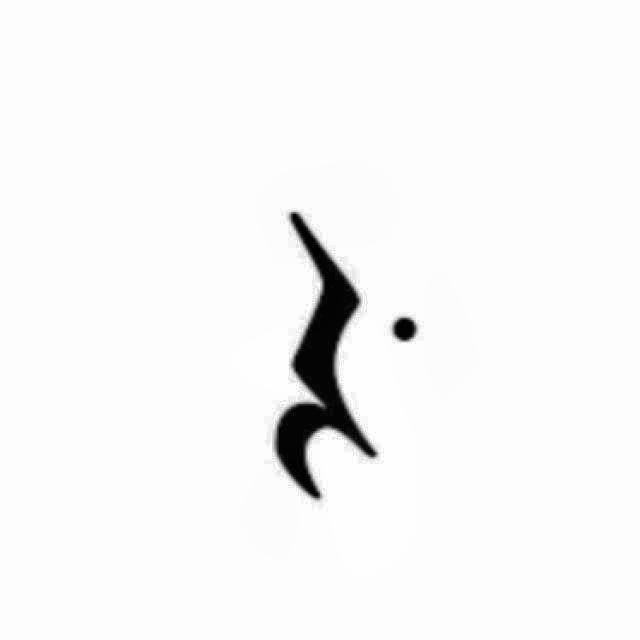Quarter-rest: (252, 201, 432, 515)
